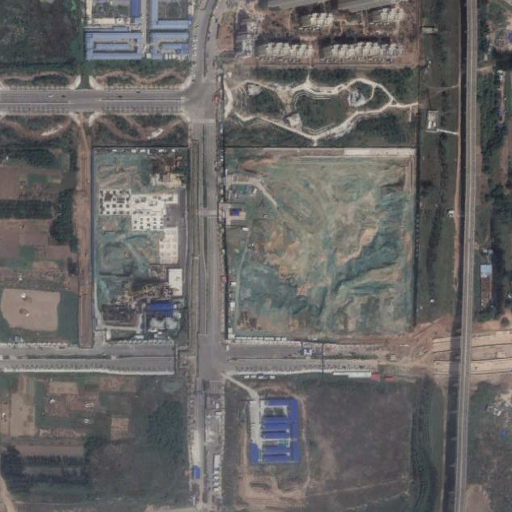cw: (226, 147, 418, 344), (93, 213, 164, 310), (92, 146, 187, 190)
